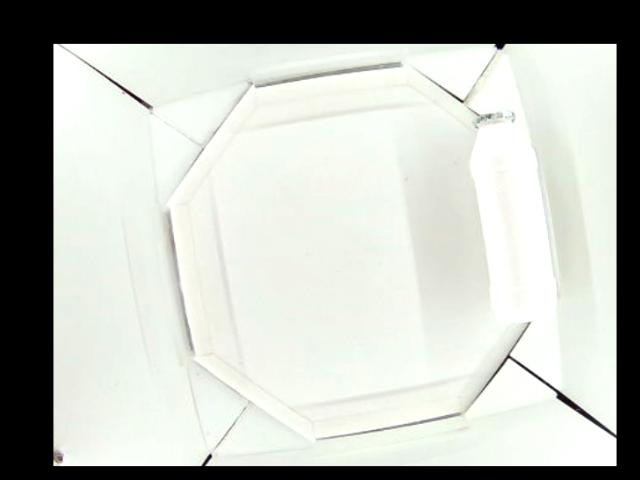Bottle: (472, 111, 560, 323)
